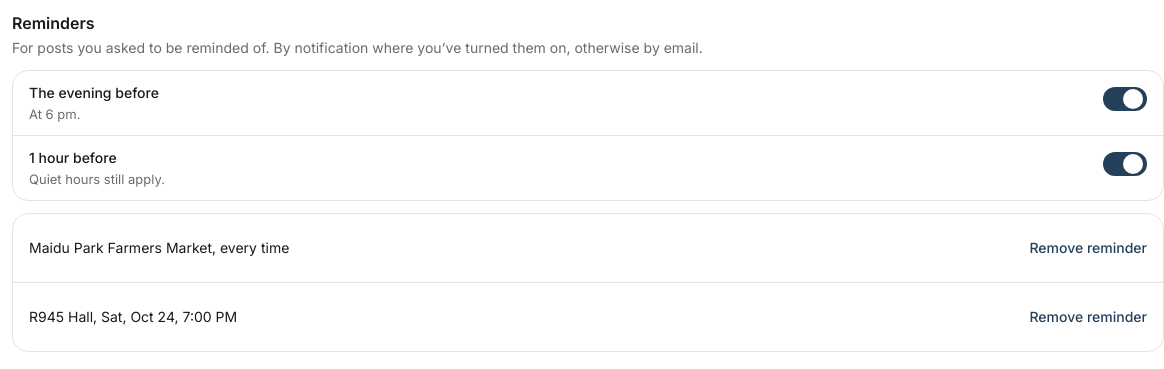
Test case: ReminderSettings › lists the reminders, and Remove takes one away
The width and height of the screenshot is (1164, 369).
Step 1. Click the button "Remove reminder" in the row of "Maidu Park Farmers Market, every time" → [1088, 248], box [1030,226,1147,270]
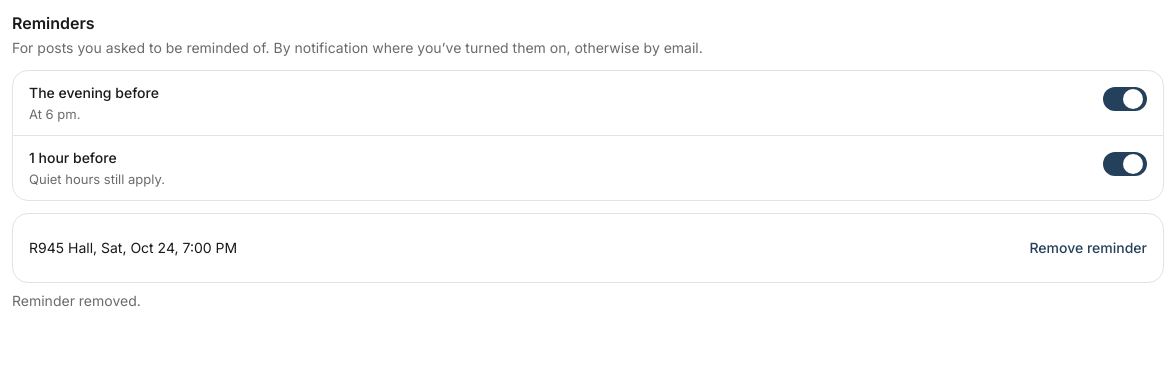
Expected: the link "R945 Hall, Sat, Oct 24, 7:00 PM" is shown, [29,239,237,256]
Now the link "Maidu Park Farmers Market, every time" is gone
